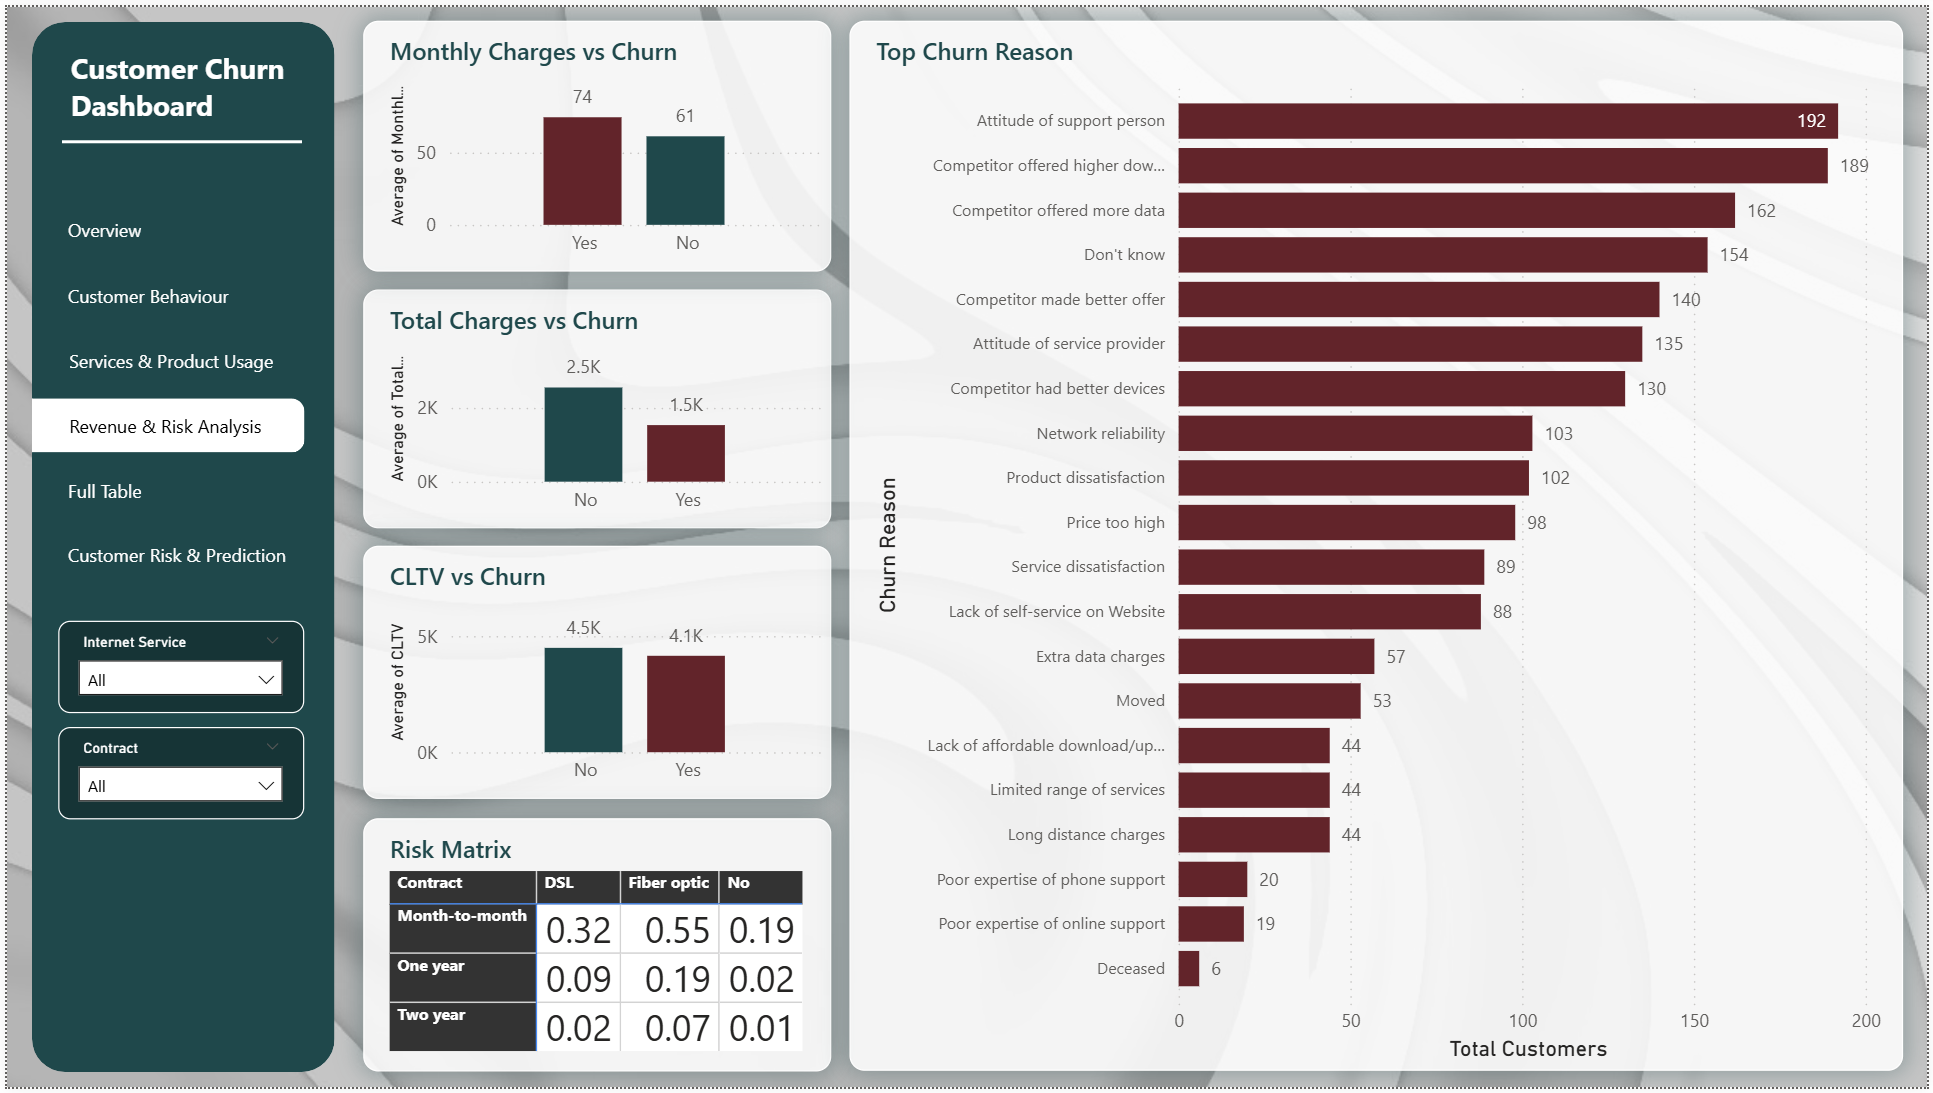

What the dashboard file says about the page in this screenshot:
{"tool":"powerbi","page":{"name":"Revenue and Risk Analysis","canvas":[1280,720],"ordinal":3},"visuals":[{"type":"shape","box":[16.8,9.7,201.8,700],"z":0},{"type":"textbox","box":[37.3,23,161.1,96.8],"z":1000},{"type":"columnChart","title":"Total Charges vs Churn","fields":{"Category":["Dataset.Churn Label"],"Y":["Avg(Dataset.Total Charges)"]},"box":[576.7,9.7,338.4,233.9],"z":2000},{"type":"clusteredColumnChart","title":"Monthly Charges vs Churn","fields":{"Category":["Dataset.Churn Label"],"Y":["Avg(Dataset.Monthly Charges)"]},"box":[237.4,9.7,330.5,233.9],"z":3000},{"type":"columnChart","title":"CLTV vs Churn","fields":{"Category":["Dataset.Churn Label"],"Y":["Avg(Dataset.CLTV)"]},"box":[926.7,9.7,338.4,233.9],"z":4000},{"type":"pivotTable","title":"Risk Matrix","fields":{"Rows":["Dataset.Contract"],"Values":["Avg(Dataset.Churn Value)"],"Columns":["Dataset.Internet Service"]},"box":[237.4,253.4,311.9,185.2],"z":5000},{"type":"clusteredBarChart","title":"Top Churn Reason","fields":{"Category":["Dataset.Churn Reason"],"Y":["Dataset.Total Customers"]},"box":[237.4,449.2,1027.7,260.5],"z":5001}]}

Visuals, with their boxes in screenshot pixels (x1, y1, x2, y2), scaled from the page's 1280x720 canvas onto the 1933x1093 screenshot:
shape: BBox(25, 15, 330, 1077)
textbox: BBox(56, 35, 300, 182)
"Total Charges vs Churn" columnChart: BBox(871, 15, 1382, 370)
"Monthly Charges vs Churn" clusteredColumnChart: BBox(359, 15, 858, 370)
"CLTV vs Churn" columnChart: BBox(1399, 15, 1910, 370)
"Risk Matrix" pivotTable: BBox(359, 385, 830, 666)
"Top Churn Reason" clusteredBarChart: BBox(359, 682, 1910, 1077)
